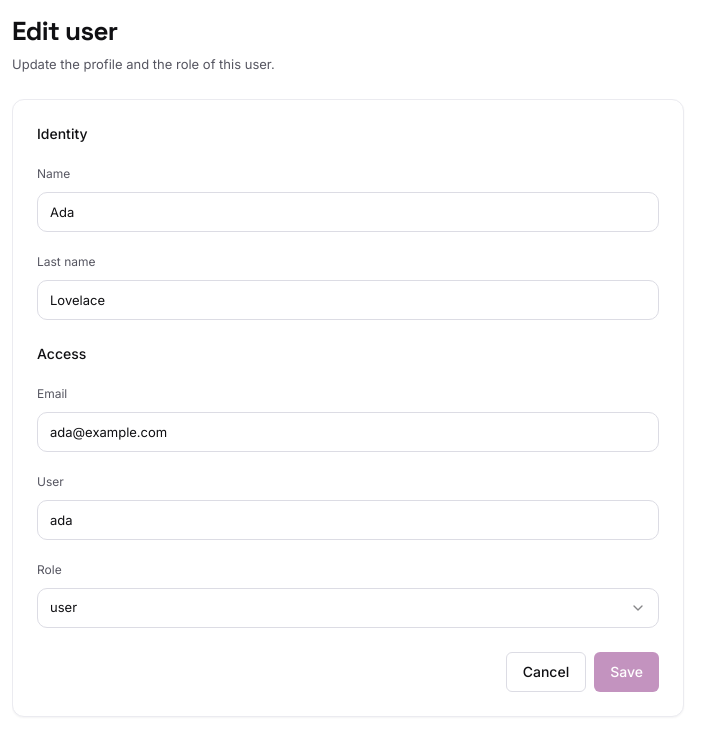
edit user form — dirty state › keeps save disabled until something changes, and re-disables when the value returns to the original
The image size is (701, 732).
Expected: the button "Save" is disabled, 594,652 -> 659,692
Clear the field labelled "Name" at (348, 212), box 37,192 -> 659,232
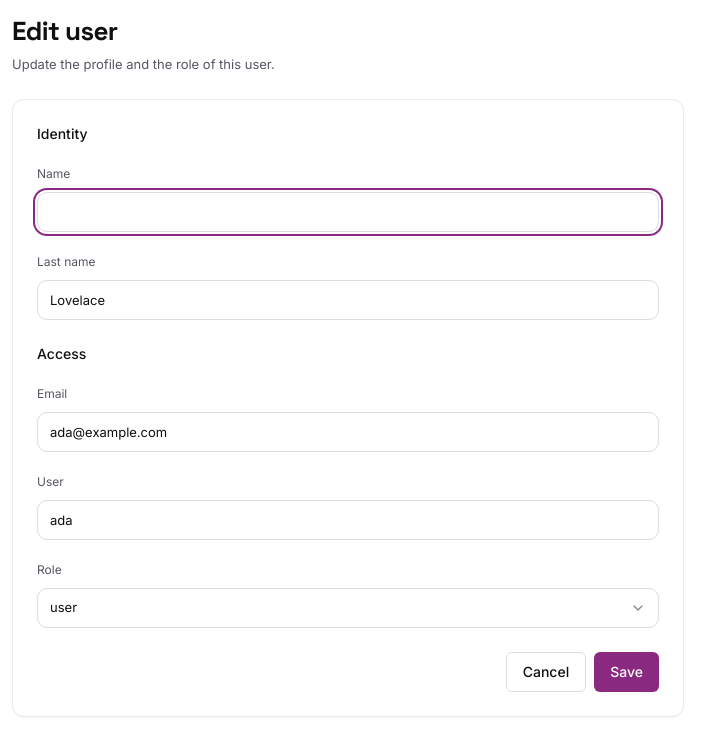
Result: the button "Save" is enabled at 594,652 -> 659,692
Type "Ada" into the field labelled "Name".
click(348, 212); type("Ada")  # box 37,192 -> 659,232
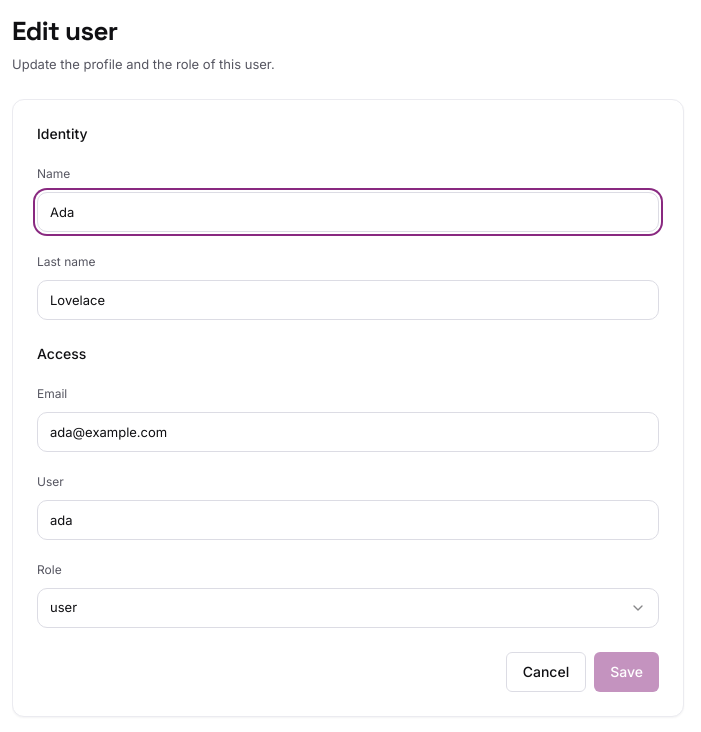
Result: the button "Save" is disabled at 594,652 -> 659,692
